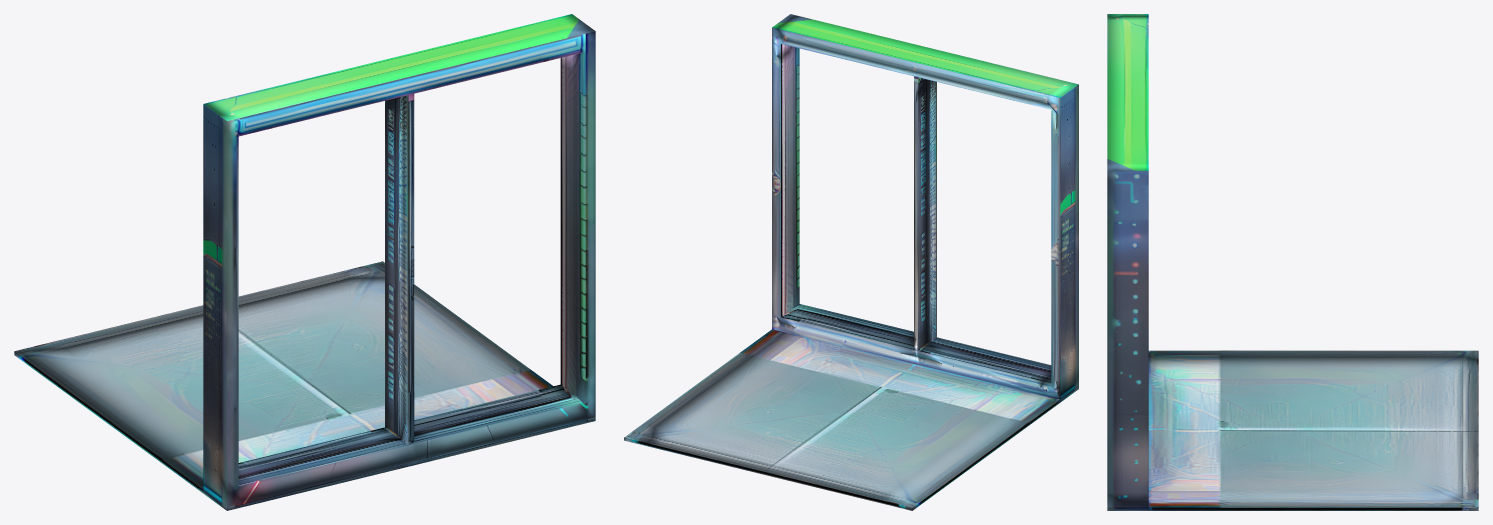
Rendered from commercialBasicFloorWindowedWall.glb.
The picture shows the model from 3 angles, left to right: view 1: azimuth 30°, elevation 25°; view 2: azimuth 150°, elevation 25°; view 3: azimuth 270°, elevation 25°; orthographic projection. The views are drawn at different scales.
Parts seen in each view (by area): view 1: commercialBasicFloorWindowedWall; view 2: commercialBasicFloorWindowedWall; view 3: commercialBasicFloorWindowedWall.
Part boxes in pixels (left/top/right/bottom): commercialBasicFloorWindowedWall: left=14, top=14, right=595, bottom=510; commercialBasicFloorWindowedWall: left=624, top=14, right=1078, bottom=510; commercialBasicFloorWindowedWall: left=1107, top=14, right=1478, bottom=510.
Bounding box in the file's own units: 1 × 1.01 × 1.
Materials: 1 (1 with a texture image).
